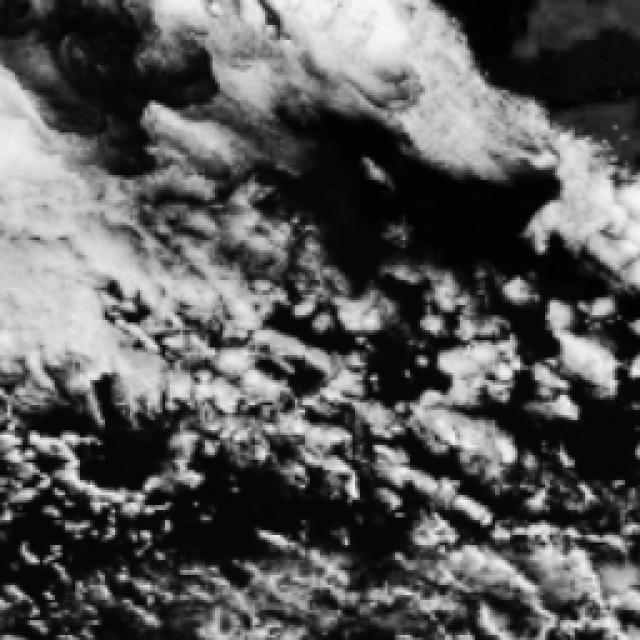CB: (0, 152, 105, 360)
